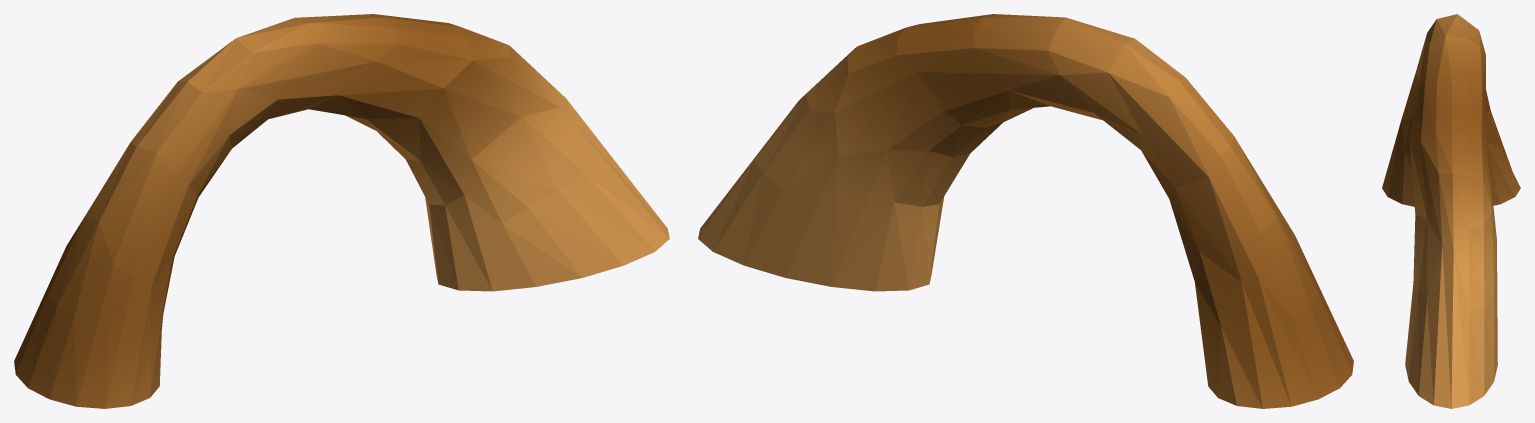
The model's file is rainbowArch 1.fbx.
3 renders of one model, left to right at view 1: azimuth 30°, elevation 25°; view 2: azimuth 150°, elevation 25°; view 3: azimuth 270°, elevation 25°, orthographic. The views are drawn at different scales.
Visible parts, largest first — view 1: rainbowArch; view 2: rainbowArch; view 3: rainbowArch.
Part boxes in pixels (x1=…): rainbowArch: x1=14, y1=14, x2=669, y2=408; rainbowArch: x1=698, y1=14, x2=1353, y2=408; rainbowArch: x1=1382, y1=14, x2=1520, y2=408.
Size of the model in its own units: 3090 by 1385 by 737.
